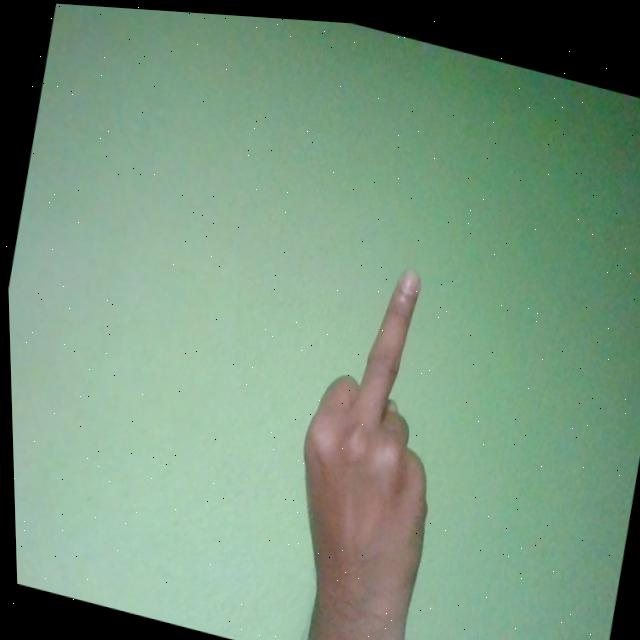Middle Finger: (258, 241, 474, 640)
